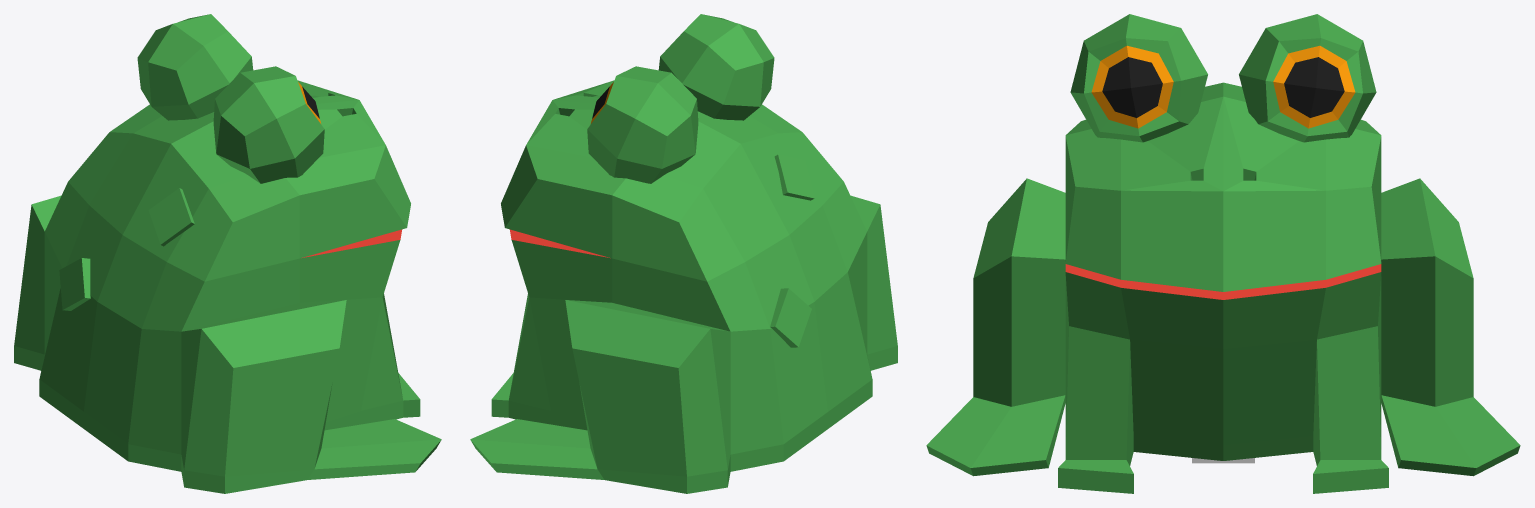
Rendered from frog-propellerhat.glb.
The picture shows the model from 3 angles, left to right: view 1: azimuth 30°, elevation 25°; view 2: azimuth 150°, elevation 25°; view 3: azimuth 270°, elevation 25°; orthographic projection. The views are drawn at different scales.
Visible parts, largest first — view 1: Frog_01_Cube.029; view 2: Frog_01_Cube.029; view 3: Frog_01_Cube.029.
Boxes of the visible parts, <box> form: Frog_01_Cube.029: <box>14,14,441,493</box>; Frog_01_Cube.029: <box>470,14,897,493</box>; Frog_01_Cube.029: <box>926,14,1520,493</box>.
Size of what is drawn, in the model's own units: 12.88 by 14.87 by 18.81.
